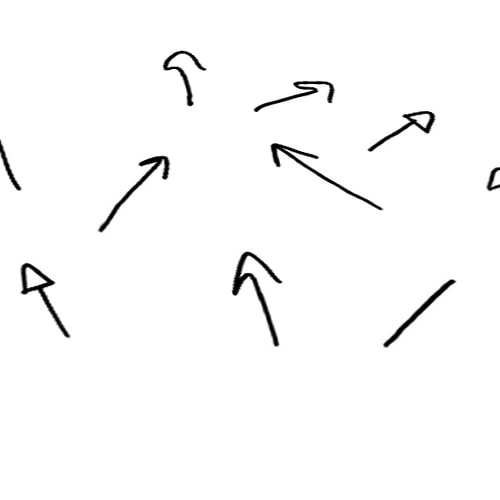arrow: (271, 140, 382, 212), (229, 248, 289, 348), (96, 156, 171, 234), (17, 261, 72, 339), (366, 111, 436, 155), (253, 79, 337, 112), (164, 50, 207, 109)
arrownohead: (383, 277, 456, 344), (1, 143, 22, 192)
